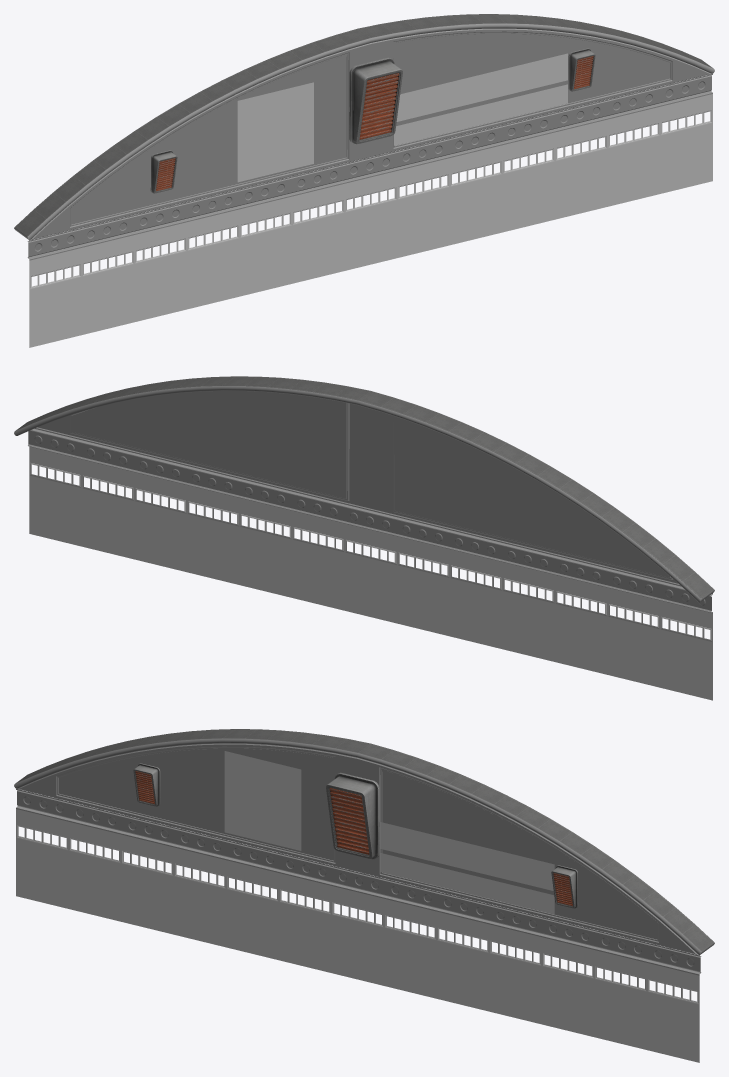
The picture shows the model from 3 angles, top to bottom: view 1: azimuth 30°, elevation 25°; view 2: azimuth 150°, elevation 25°; view 3: azimuth 330°, elevation 25°; orthographic projection.
Visible parts, largest first — view 1: RoadKillOut; view 2: RoadKillOut; view 3: RoadKillOut.
Part boxes in pixels (x1,y1,x2,y2): RoadKillOut: [14, 14, 714, 347]; RoadKillOut: [14, 376, 714, 700]; RoadKillOut: [14, 729, 714, 1062].
Size of the model in its own units: 14795 by 1003 by 4659.
